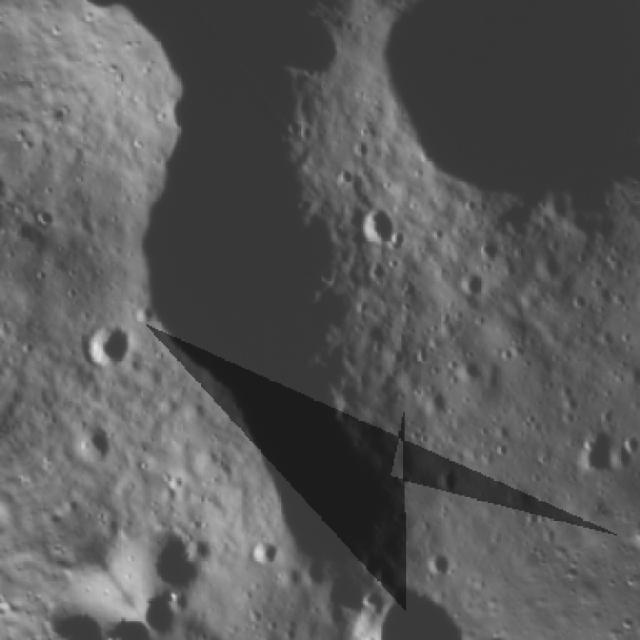crater: (95, 494, 242, 640), (61, 297, 157, 391), (551, 402, 640, 500), (52, 406, 136, 489), (337, 184, 414, 264), (442, 252, 508, 318), (413, 538, 469, 592), (240, 532, 288, 579)
